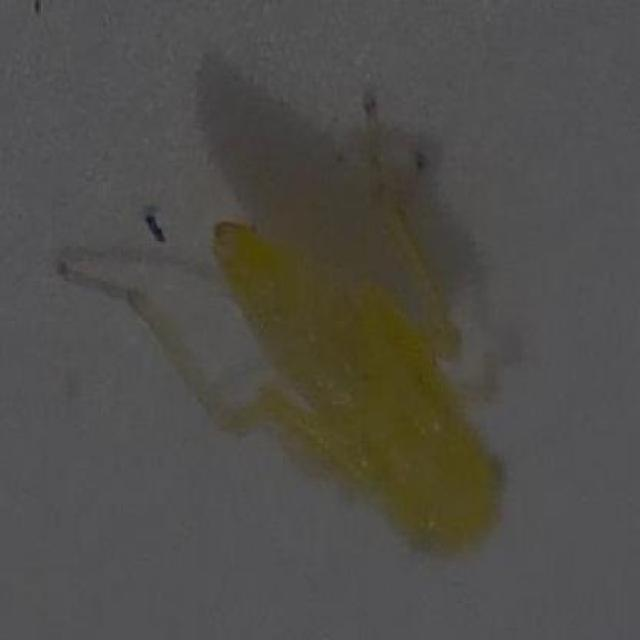green-leafhopper: (130, 193, 507, 564)
